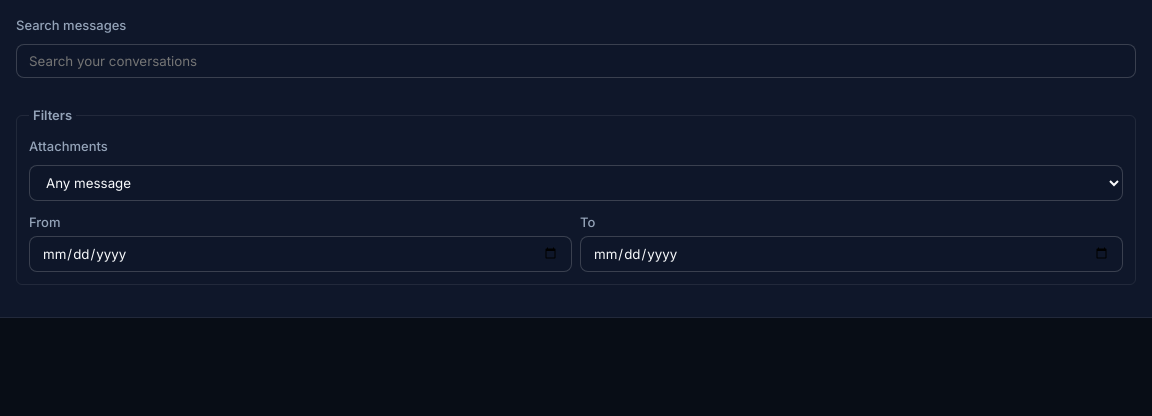
it: out-of-order responses › ignores a stale failure too
Type "de" into the search field with test id "search-input" at (576, 60), box [16,44,1136,78]
Wait 300 ms
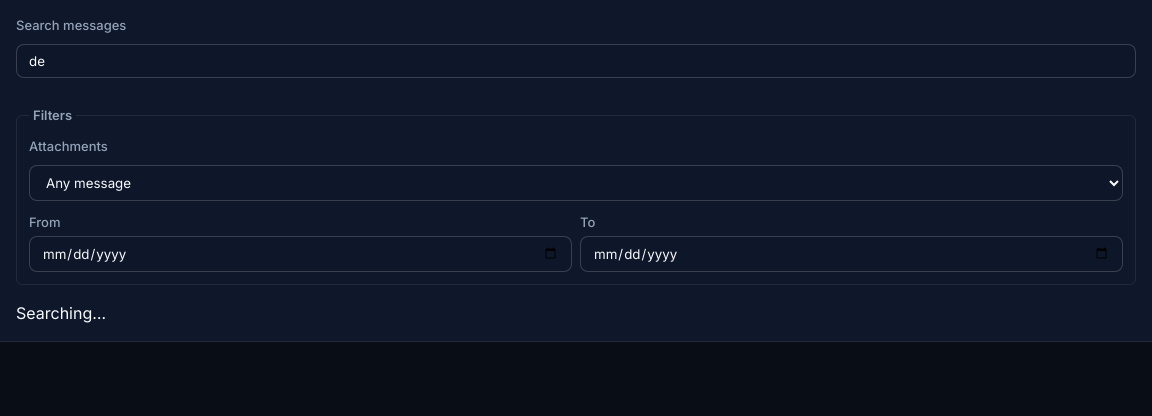
Replace the text in the search field with test id "search-input" with "deployment" at (576, 60), box [16,44,1136,78]
Wait 300 ms
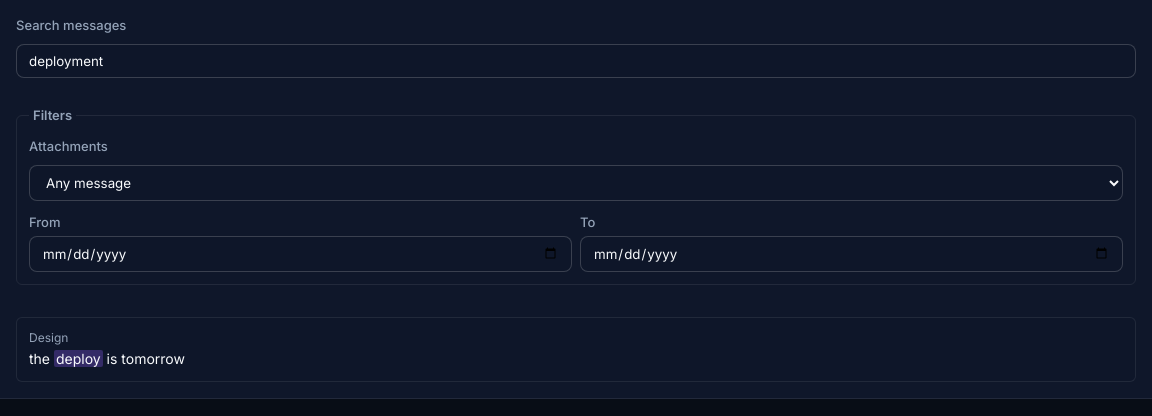
Expected: the list with test id "search-results" is shown, [16,317,1136,382]
Expected: the message "Searching…" is gone
